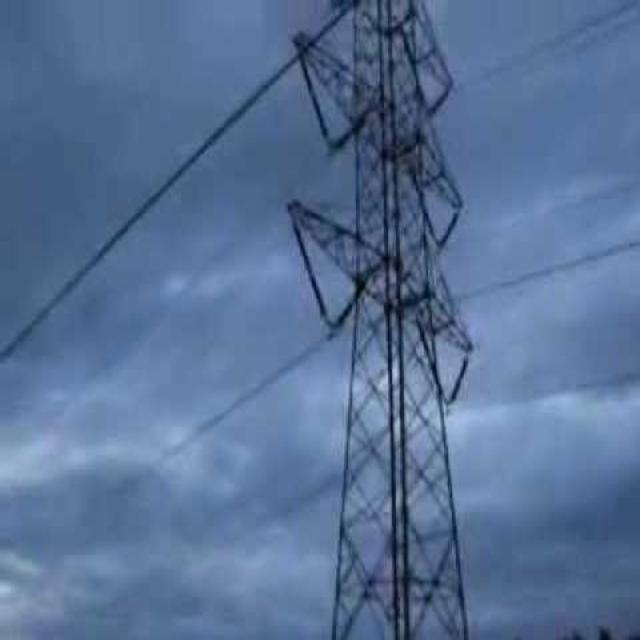non-critical vegetation: (283, 6, 483, 632)
